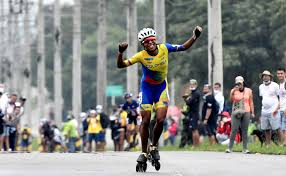roller_blade: (149, 143, 162, 170), (136, 150, 146, 172)
